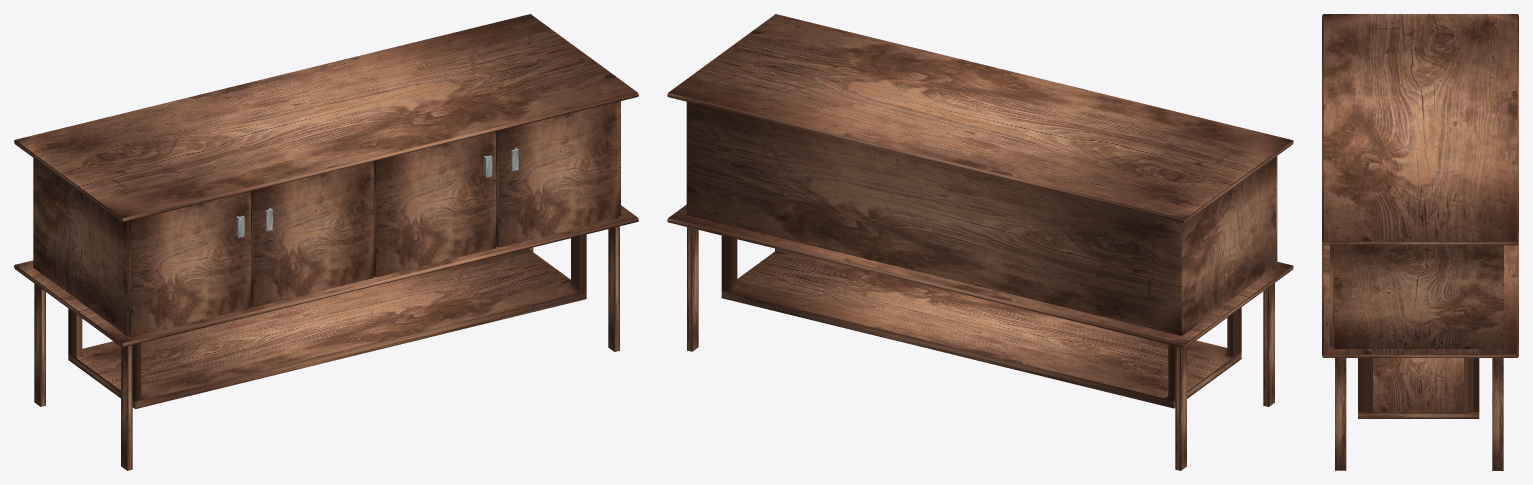
File: console_table.glb
3 renders of one model, left to right at view 1: azimuth 30°, elevation 25°; view 2: azimuth 150°, elevation 25°; view 3: azimuth 270°, elevation 25°, orthographic. The views are drawn at different scales.
Visible parts, largest first — view 1: Box002, Box017, Box009, Box007, Box006, Box008, Box001, Box005, Box015, Box016, Box003; view 2: Box001, Box002, Box017, Box005, Box003, Box014, Box015; view 3: Box002, Box001, Box017, Box005, Box014, Box016, Box009.
Part boxes in pixels (bbox=[...]): Box002: bbox=[14, 14, 638, 222]; Box017: bbox=[68, 234, 586, 408]; Box009: bbox=[496, 101, 618, 247]; Box007: bbox=[251, 161, 373, 307]; Box006: bbox=[128, 191, 250, 337]; Box008: bbox=[373, 131, 495, 277]; Box001: bbox=[33, 101, 620, 336]; Box005: bbox=[14, 205, 638, 347]; Box015: bbox=[121, 345, 132, 470]; Box016: bbox=[608, 226, 619, 351]; Box003: bbox=[34, 283, 45, 406]; Box001: bbox=[686, 102, 1275, 335]; Box002: bbox=[667, 14, 1293, 222]; Box017: bbox=[721, 235, 1241, 408]; Box005: bbox=[667, 204, 1293, 348]; Box003: bbox=[1175, 346, 1186, 470]; Box014: bbox=[687, 227, 698, 351]; Box015: bbox=[1263, 283, 1274, 406]; Box002: bbox=[1322, 14, 1518, 245]; Box001: bbox=[1334, 245, 1503, 348]; Box017: bbox=[1358, 358, 1479, 418]; Box005: bbox=[1322, 244, 1518, 357]; Box014: bbox=[1492, 358, 1503, 470]; Box016: bbox=[1335, 358, 1346, 470]; Box009: bbox=[1330, 245, 1334, 346].
Size of the model in its own units: 95.07 by 45.78 by 34.82.
2 materials, 2 textured.
